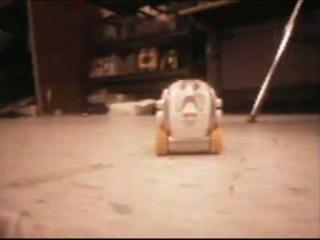cozmo: (153, 77, 224, 156)
